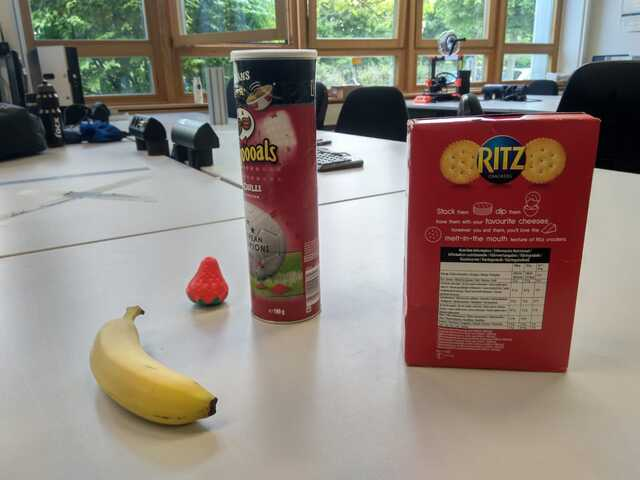001_chips_can: (228, 45, 328, 325)
003_cracker_box: (401, 108, 602, 378)
011_banana: (83, 303, 226, 434)
012_strawberry: (181, 253, 234, 313)
